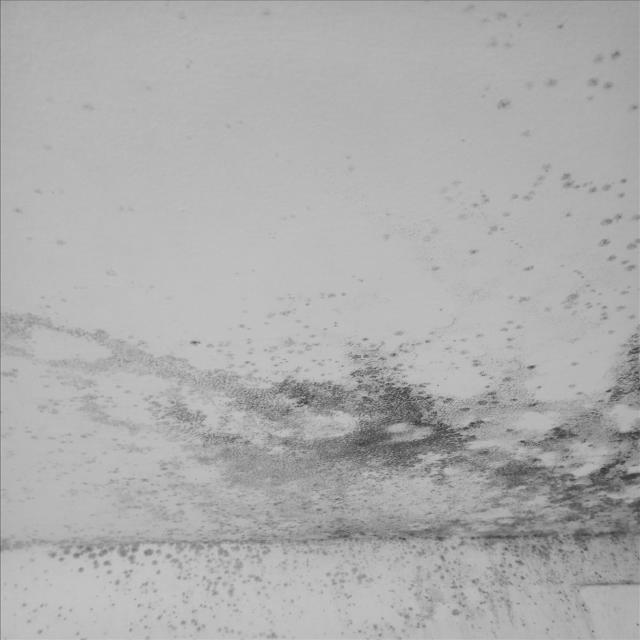stain marks: (0, 292, 640, 640), (429, 5, 640, 303), (302, 150, 452, 256), (162, 51, 266, 135), (95, 262, 188, 324), (12, 198, 78, 258), (24, 178, 78, 204), (109, 197, 150, 231), (66, 86, 100, 112), (252, 5, 296, 22), (177, 10, 200, 28), (29, 142, 65, 152)
